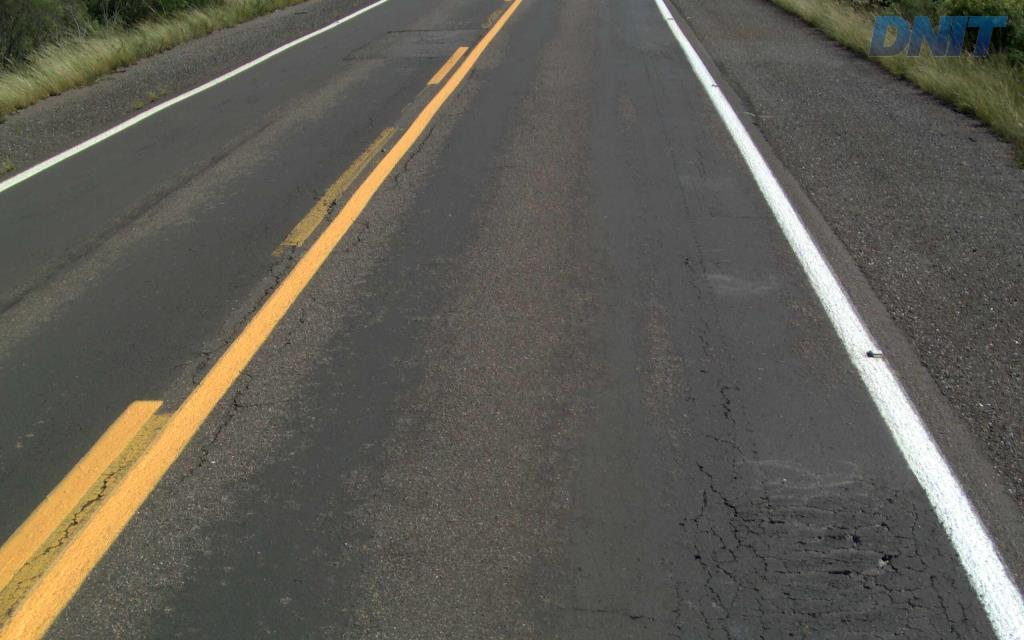crack: (709, 483, 776, 572), (813, 553, 901, 604), (703, 527, 738, 621), (809, 524, 868, 550)
